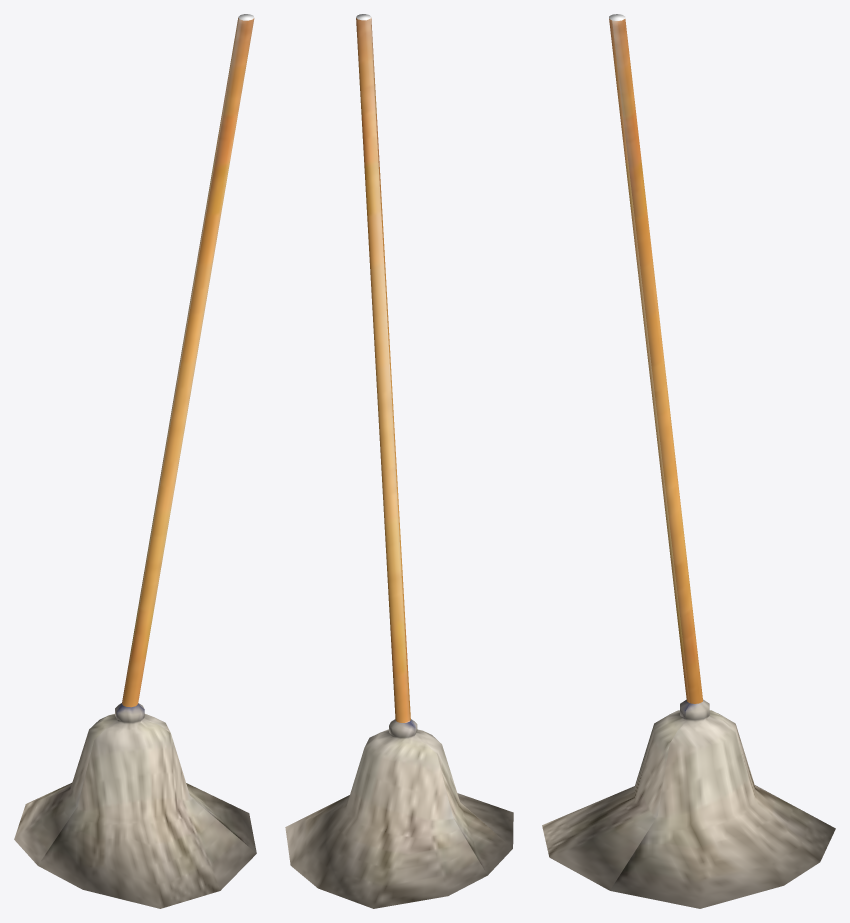
The model's file is mop.FBX.
3 views of the same model, side by side, from view 1: azimuth 30°, elevation 25°; view 2: azimuth 150°, elevation 25°; view 3: azimuth 270°, elevation 25° (orthographic). The views are drawn at different scales.
Visible parts, largest first — view 1: mop; view 2: mop; view 3: mop.
Part boxes in pixels (bbox=[...]): mop: bbox=[14, 14, 256, 908]; mop: bbox=[285, 14, 513, 908]; mop: bbox=[542, 14, 835, 908].
Size of the model in its own units: 27.12 by 102 by 31.21.
